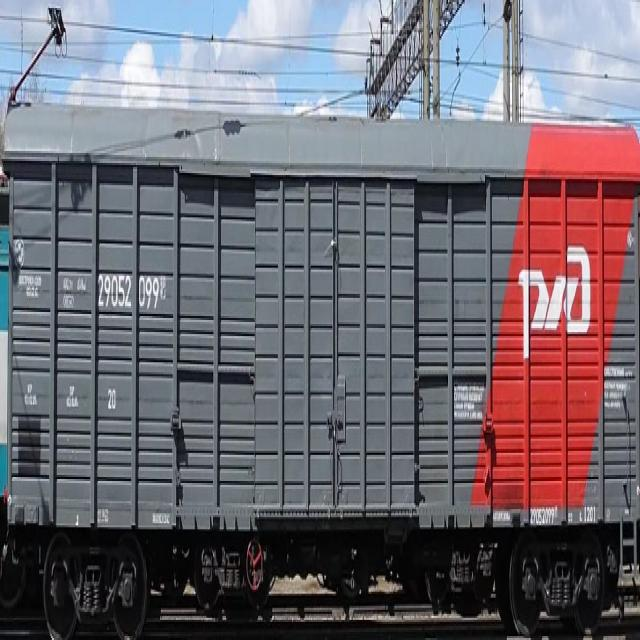boxcar: (0, 82, 640, 638)
